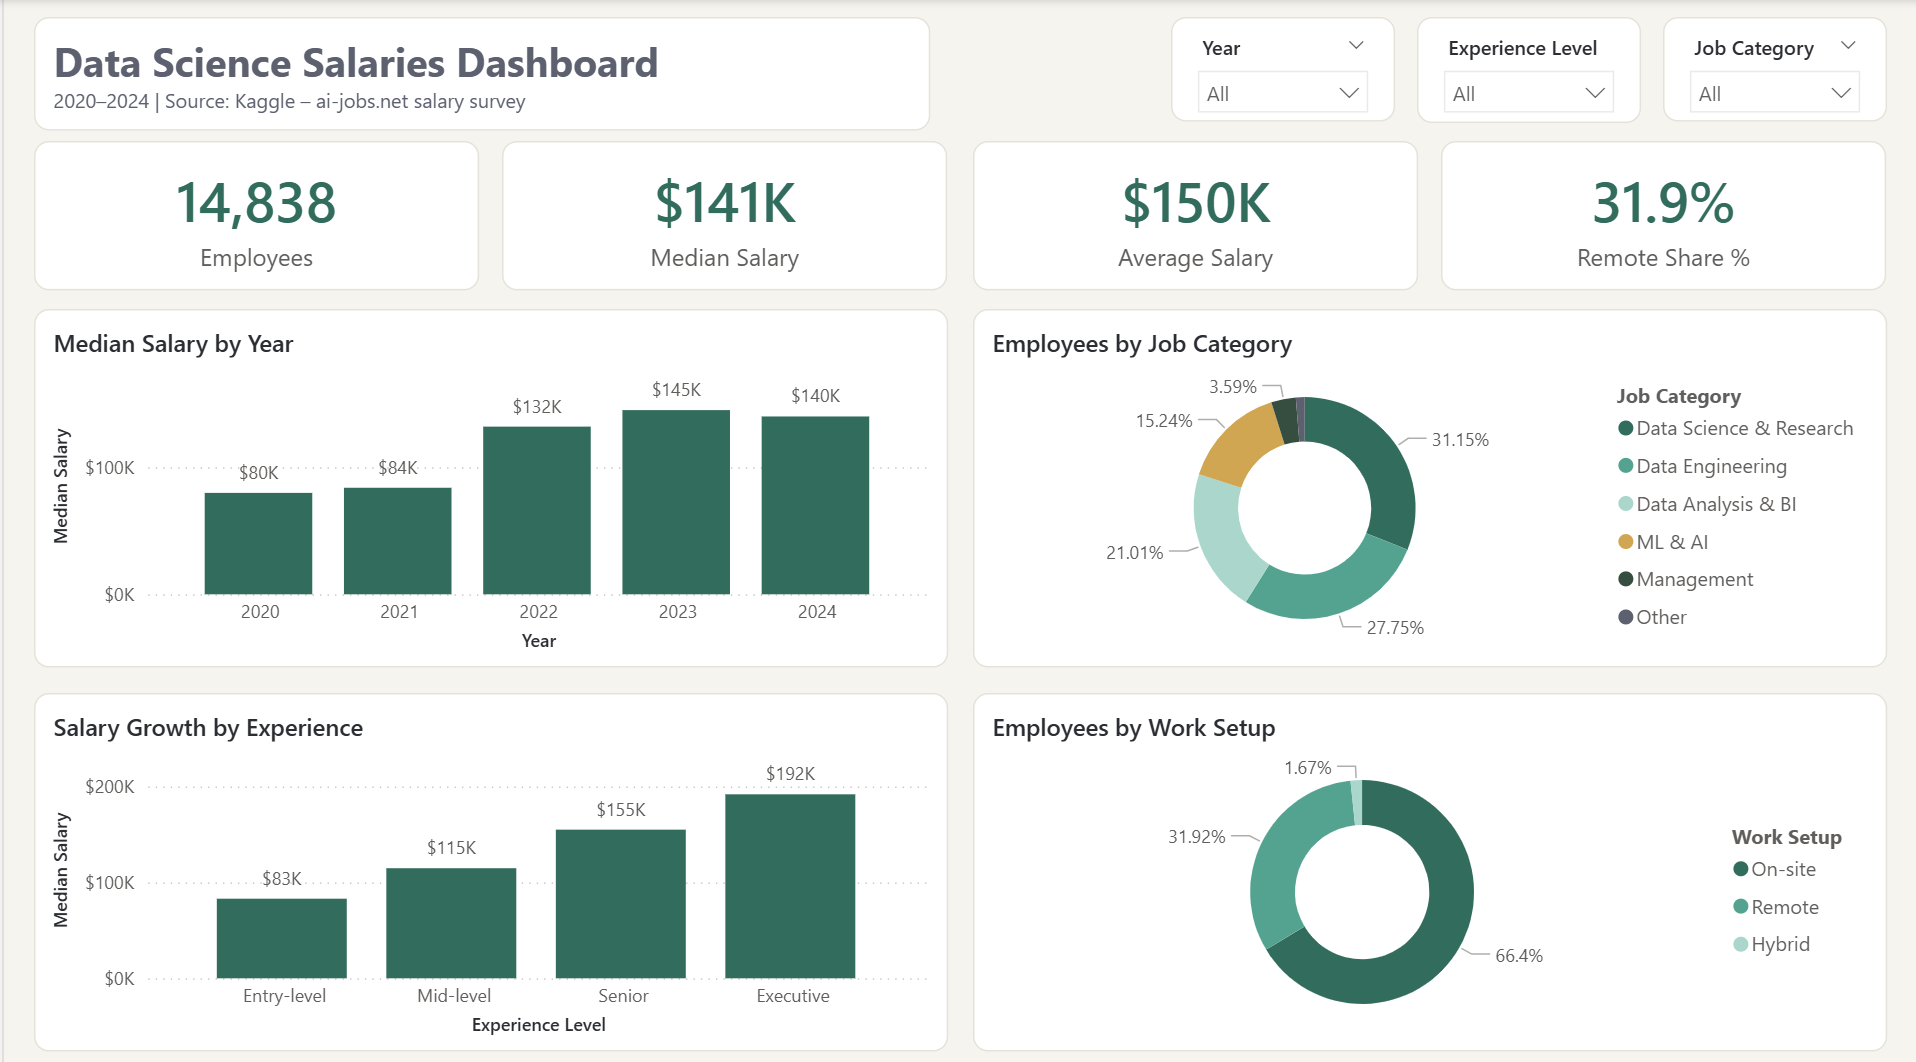

What the dashboard file says about the page in this screenshot:
{"tool":"powerbi","page":{"name":"Overview","canvas":[1280,720],"ordinal":0},"visuals":[{"type":"textbox","box":[20,12,600,76],"z":0},{"type":"slicer","fields":{"Values":["Salaries.Year"]},"box":[780,12,150,70],"z":1000},{"type":"slicer","fields":{"Values":["Salaries.Experience Level"]},"box":[945,12,150,71],"z":2000},{"type":"slicer","fields":{"Values":["Salaries.Job Category"]},"box":[1110,12,150,70],"z":3000},{"type":"card","fields":{"Values":["Salaries.Employees"]},"box":[20,95,298,100],"z":4000},{"type":"card","fields":{"Values":["Salaries.Remote Share %"]},"box":[962,95,298,100],"z":5000},{"type":"card","fields":{"Values":["Salaries.Average Salary"]},"box":[648,95,298,100],"z":6000},{"type":"card","fields":{"Values":["Salaries.Median Salary"]},"box":[334,95,298,100],"z":7000},{"type":"clusteredColumnChart","title":"Median Salary by Year","fields":{"Category":["Salaries.Year"],"Y":["Salaries.Median Salary"]},"box":[20,208,612,240],"z":8000},{"type":"donutChart","title":"Employees by Job Category","fields":{"Category":["Salaries.Job Category"],"Y":["Salaries.Employees"]},"box":[648,208,612,240],"z":9000},{"type":"clusteredColumnChart","title":"Salary Growth by Experience","fields":{"Category":["Salaries.Experience Level"],"Y":["Salaries.Median Salary"]},"box":[20,464,612,240],"z":10000},{"type":"donutChart","fields":{"Category":["Salaries.Work Setup"],"Y":["Salaries.Employees"]},"box":[648,464,612,240],"z":11000}]}

Visuals, with their boxes in screenshot pixels (x1, y1, x2, y2), scaled from the page's 1280x720 canvas onto the 1916x1062 screenshot:
textbox: 30/18/928/130
slicer - Salaries.Year: 1168/18/1392/121
slicer - Salaries.Experience Level: 1415/18/1639/122
slicer - Salaries.Job Category: 1662/18/1886/121
card - Salaries.Employees: 30/140/476/288
card - Salaries.Remote Share %: 1440/140/1886/288
card - Salaries.Average Salary: 970/140/1416/288
card - Salaries.Median Salary: 500/140/946/288
"Median Salary by Year" clusteredColumnChart: 30/307/946/661
"Employees by Job Category" donutChart: 970/307/1886/661
"Salary Growth by Experience" clusteredColumnChart: 30/684/946/1038
donutChart - Salaries.Work Setup x Salaries.Employees: 970/684/1886/1038
